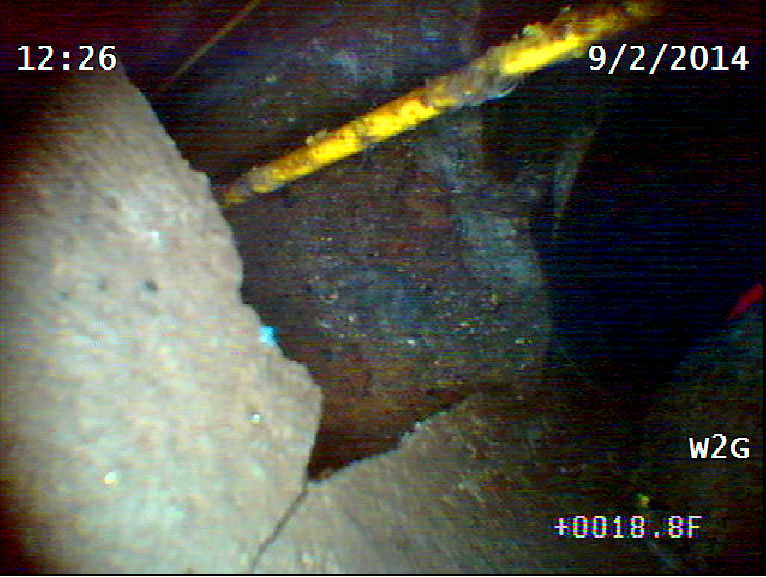cb: (171, 35, 568, 229)
